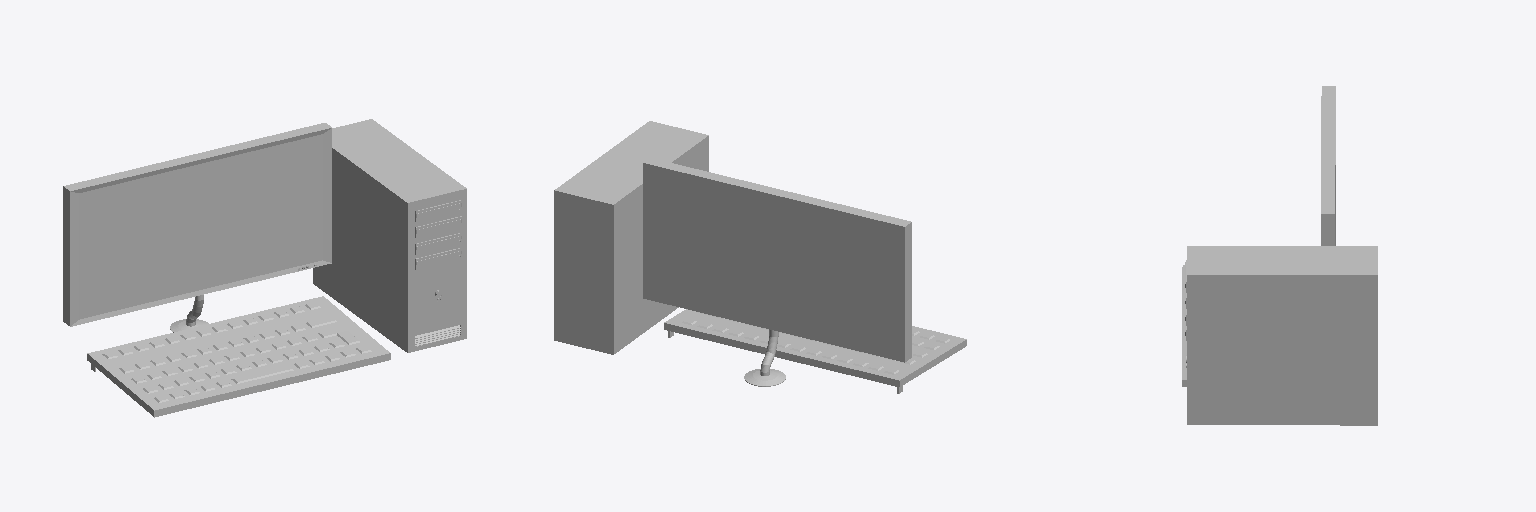
The model's file is computer.obj.
3 views of the same model, side by side, from view 1: azimuth 30°, elevation 25°; view 2: azimuth 150°, elevation 25°; view 3: azimuth 270°, elevation 25° (orthographic).
Visible parts, largest first — view 1: Cylinder.006, Cube.002, Cube.003, Cube.000, Cylinder; view 2: Cylinder.006, Cube.002, Cube.003, Cube.000, Cylinder; view 3: Cube.002, Cylinder.006.
Boxes of the visible parts, x1=… form: Cylinder.006: x1=63, y1=123, x2=331, y2=326; Cube.002: x1=313, y1=119, x2=466, y2=352; Cube.003: x1=87, y1=296, x2=390, y2=417; Cube.000: x1=102, y1=302, x2=371, y2=402; Cylinder: x1=170, y1=295, x2=208, y2=332; Cylinder.006: x1=643, y1=158, x2=911, y2=362; Cube.002: x1=554, y1=121, x2=708, y2=354; Cube.003: x1=664, y1=309, x2=966, y2=393; Cube.000: x1=682, y1=312, x2=949, y2=374; Cylinder: x1=744, y1=329, x2=785, y2=386; Cube.002: x1=1185, y1=246, x2=1377, y2=425; Cylinder.006: x1=1321, y1=86, x2=1335, y2=245.
Bounding box in the file's own units: 1.55 × 0.807 × 0.7985.